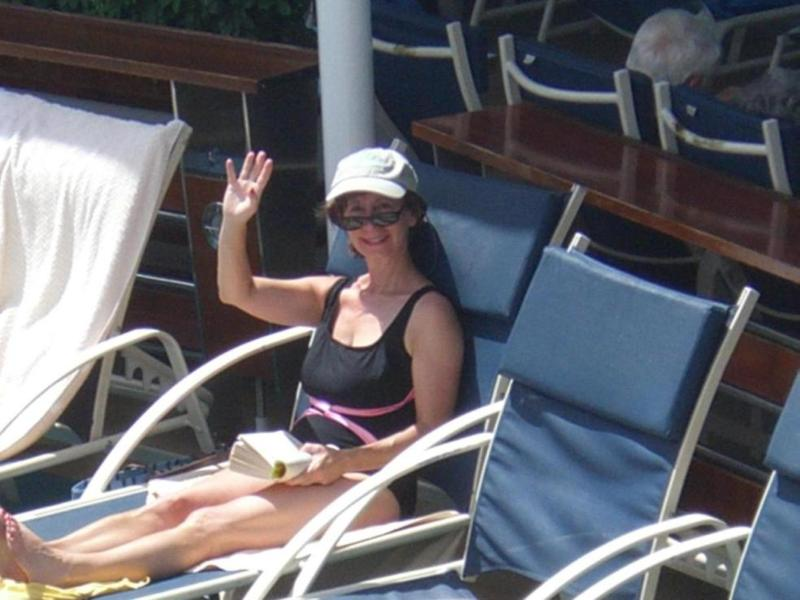person: (1, 147, 465, 587)
